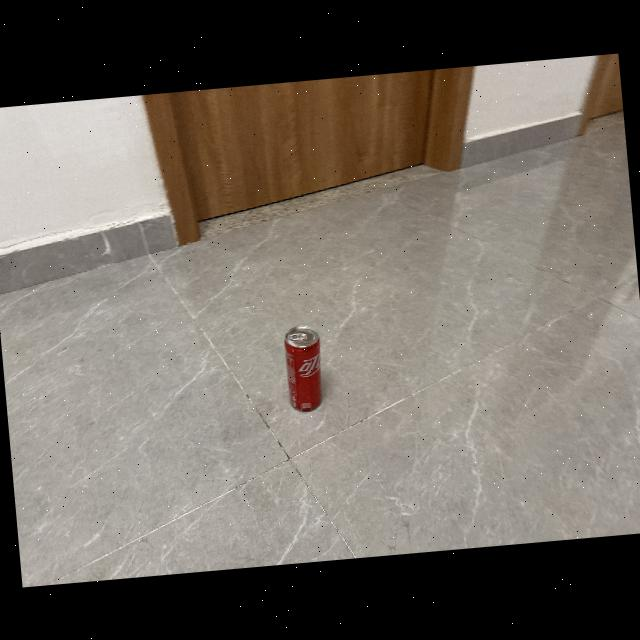Cola: (280, 320, 328, 414)
